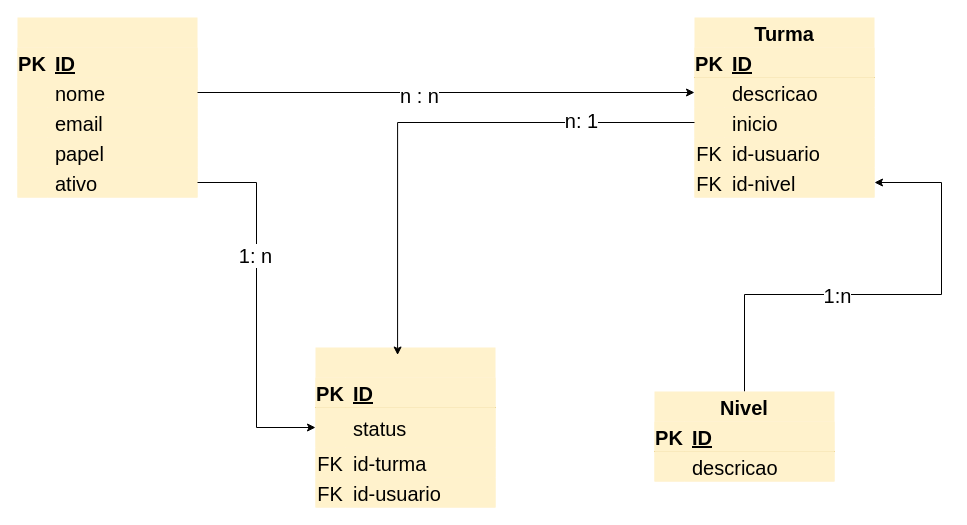
Some shapes in this 967 by 525 pixel diagram are drawn without their labels. The box of each missing label's shape, as (x1, y1, x2, y2) in pixels:
Matricula: (315, 347, 495, 507)
Usuario: (17, 17, 197, 197)
